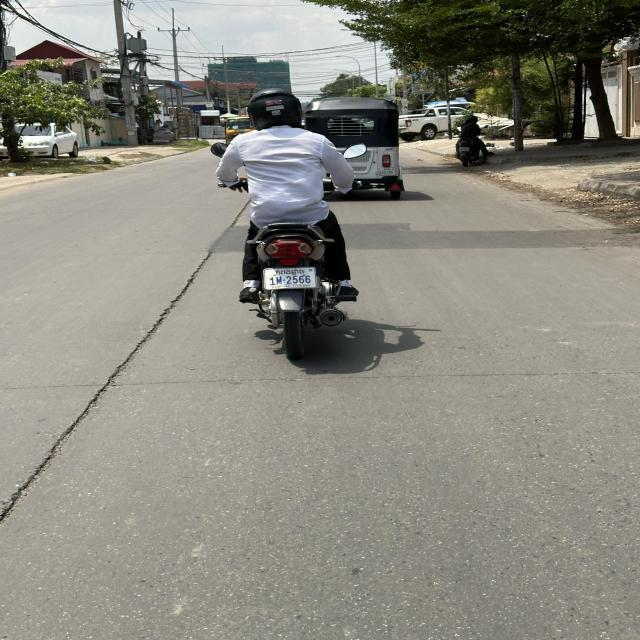Kampong_Chhnang: (274, 268, 305, 276)
